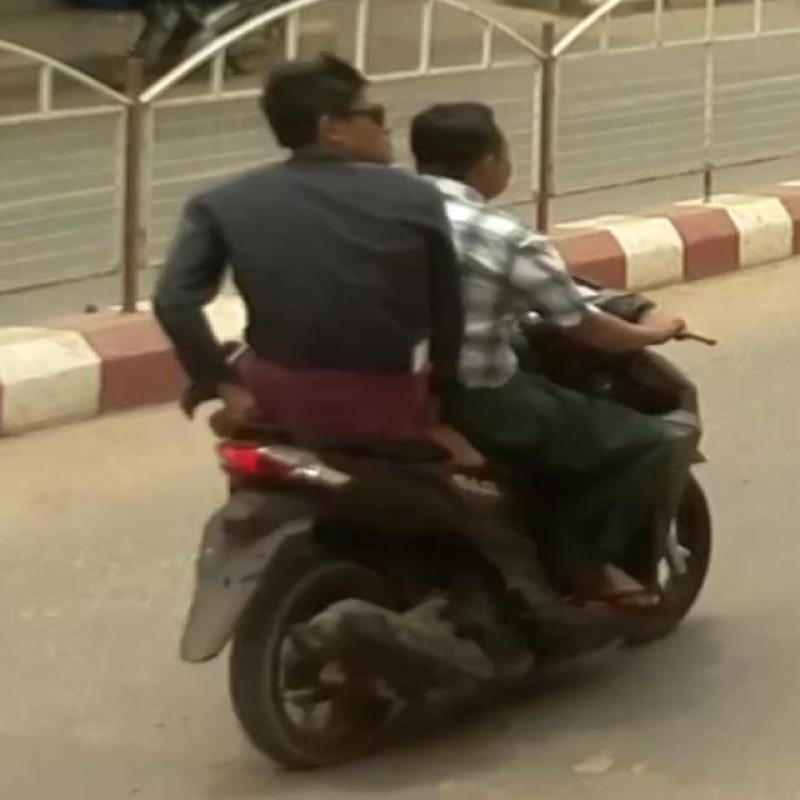nohelmet: (236, 45, 461, 178)
